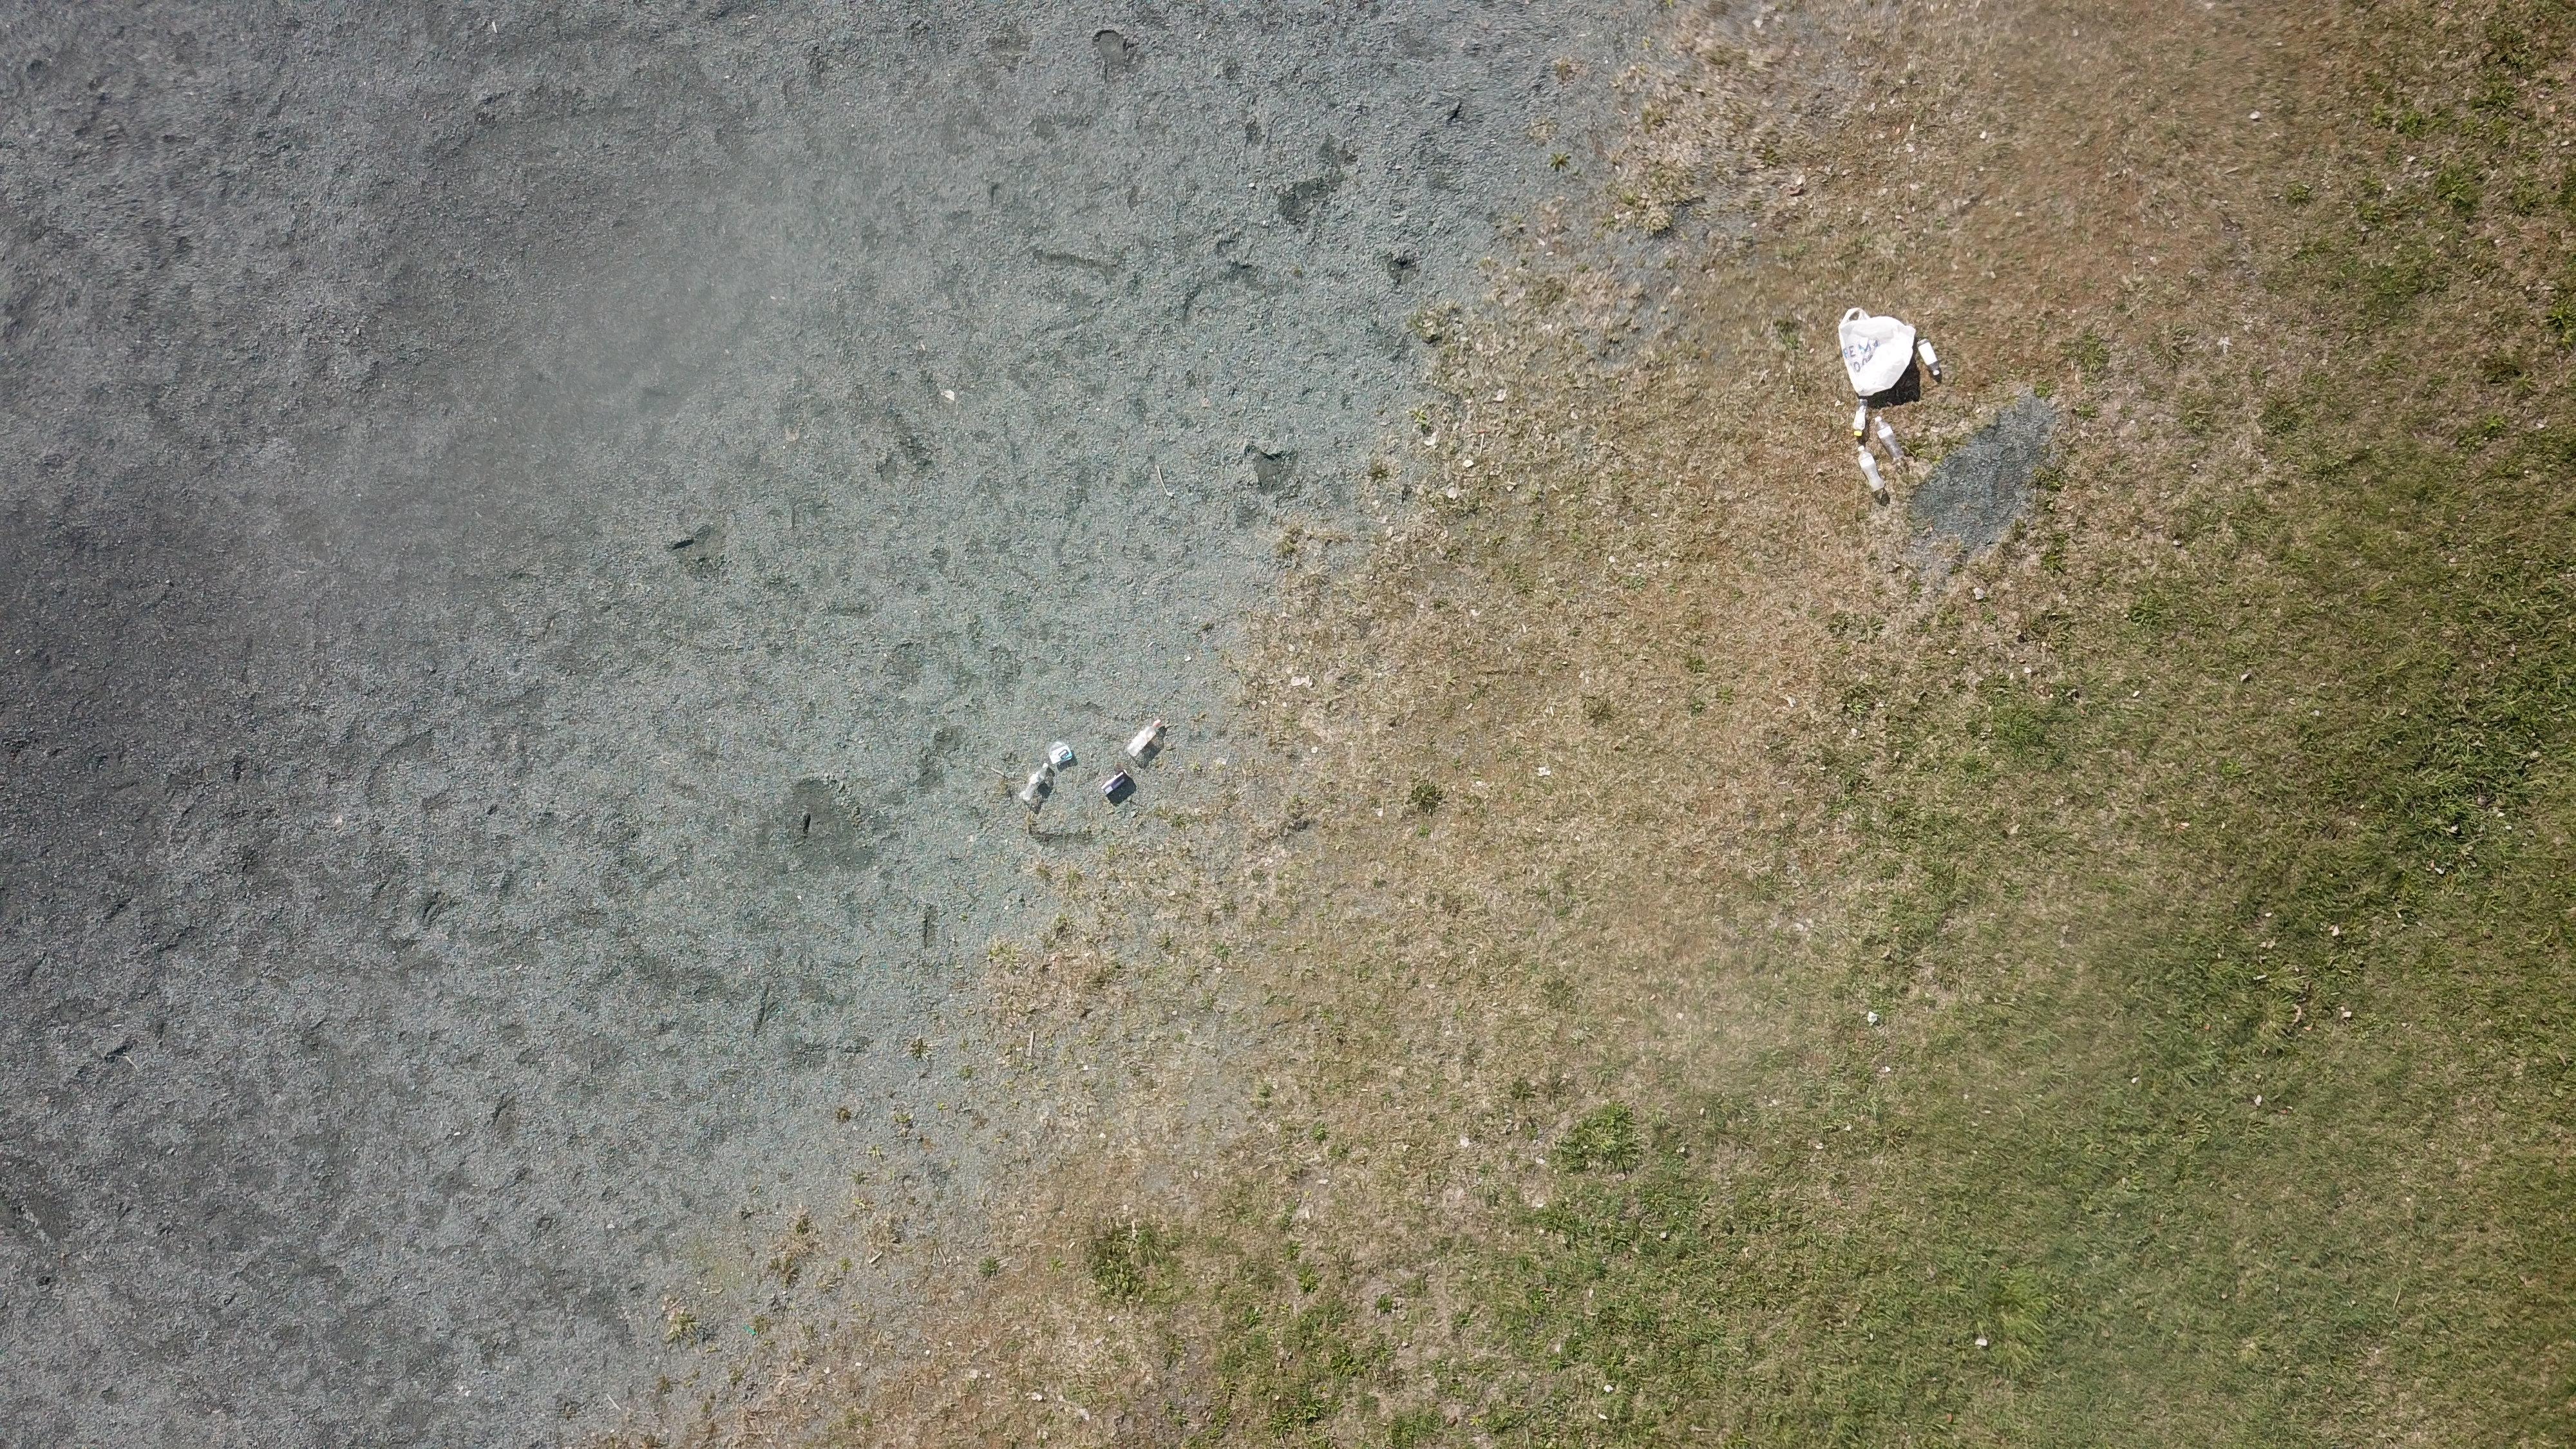Can: (1100, 770, 1129, 796)
Plastic: (1838, 308, 1914, 396), (1049, 741, 1074, 764), (743, 1323, 755, 1336)
PlasticBottle: (1854, 446, 1888, 494), (1874, 416, 1904, 464), (1127, 720, 1161, 757), (1019, 763, 1047, 803), (1916, 338, 1941, 377), (1852, 398, 1868, 437)
